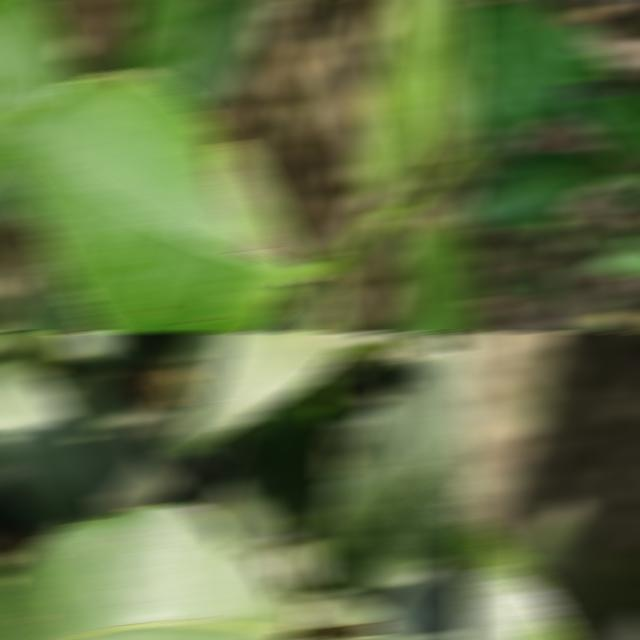Leaf: (0, 70, 305, 332), (0, 504, 294, 640), (310, 354, 474, 591), (164, 332, 355, 457), (460, 0, 574, 154), (359, 0, 442, 211), (0, 362, 98, 531), (241, 372, 339, 531), (41, 360, 127, 495), (461, 150, 604, 228), (92, 403, 189, 513), (171, 0, 264, 112), (0, 0, 83, 115), (402, 215, 474, 332), (124, 0, 209, 87), (373, 568, 461, 640), (430, 0, 474, 131), (569, 93, 640, 158), (424, 70, 463, 162), (55, 332, 140, 371), (1, 332, 63, 372), (258, 288, 307, 332), (390, 304, 433, 332), (612, 172, 640, 211)
